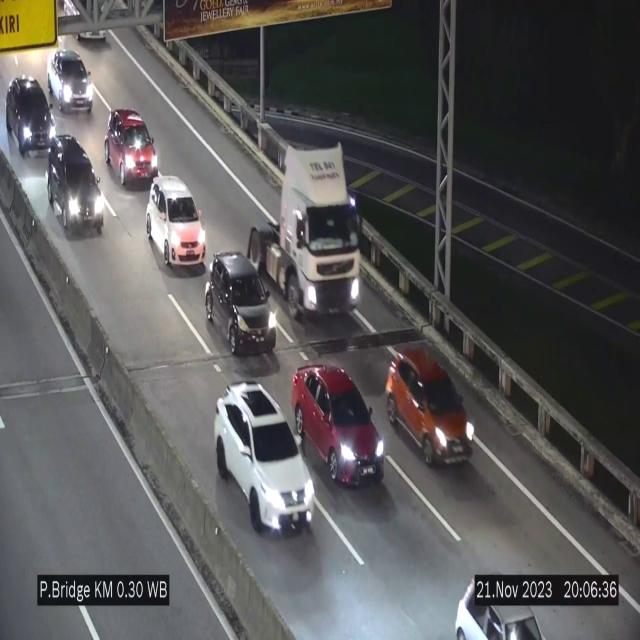Car: (214, 385, 314, 531), (296, 365, 390, 498), (386, 344, 476, 464), (208, 248, 278, 368), (446, 567, 554, 640), (46, 140, 112, 244), (146, 175, 206, 269), (46, 47, 102, 127), (6, 72, 58, 156), (105, 107, 159, 185)
Truck: (251, 145, 362, 331)
